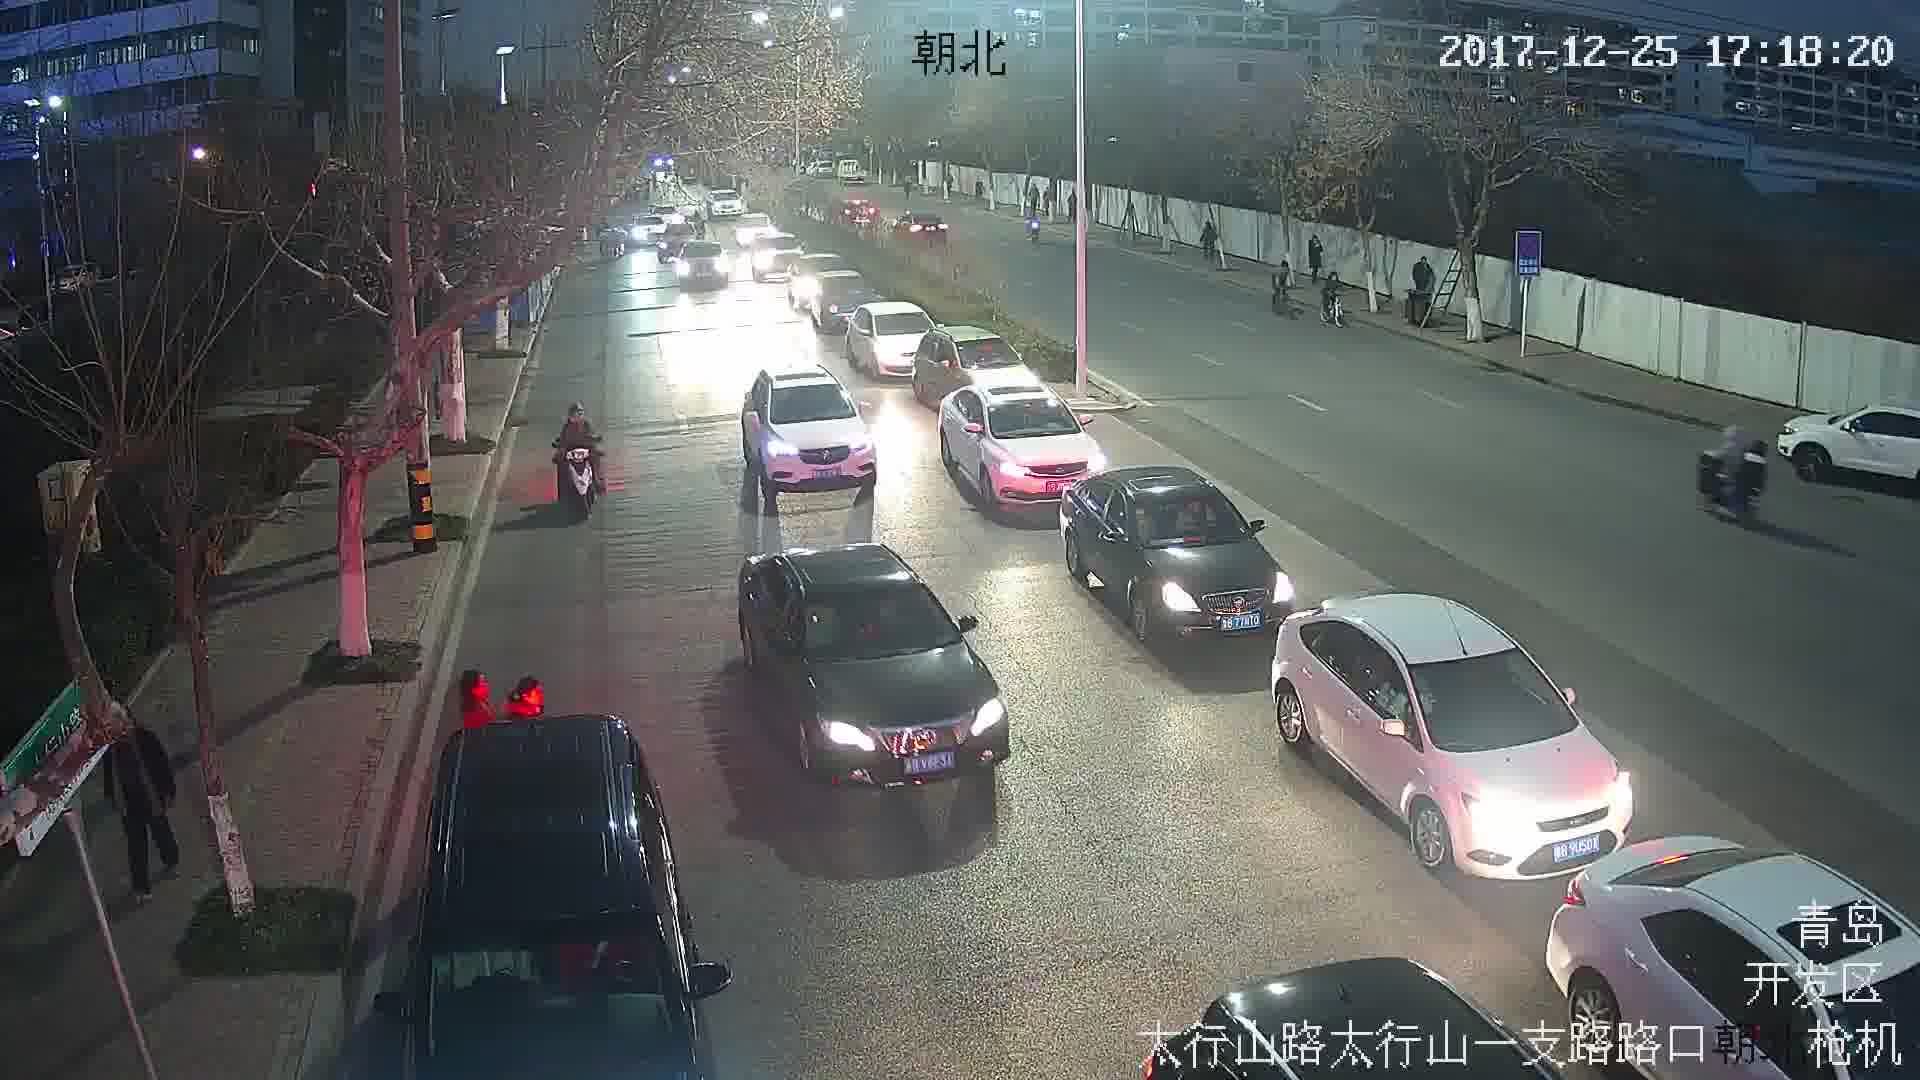car: (1289, 595, 1643, 882), (735, 546, 1007, 787), (1067, 475, 1295, 644), (941, 388, 1110, 509), (743, 366, 877, 506)
person: (102, 728, 192, 894), (449, 660, 493, 721), (556, 400, 605, 450), (509, 667, 549, 716), (1745, 432, 1768, 513), (1718, 420, 1738, 495)
